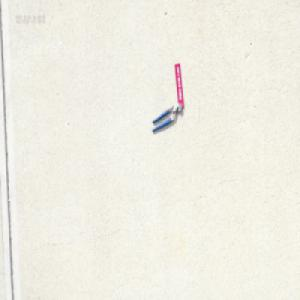Label: (173, 63, 183, 109)
Pliers: (150, 104, 181, 134)
